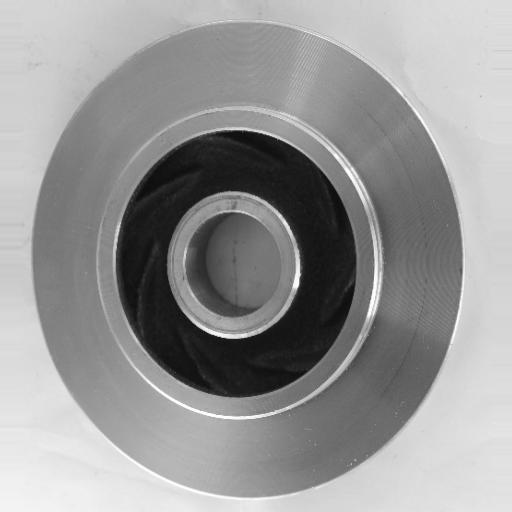polished_casting: (27, 23, 465, 499)
